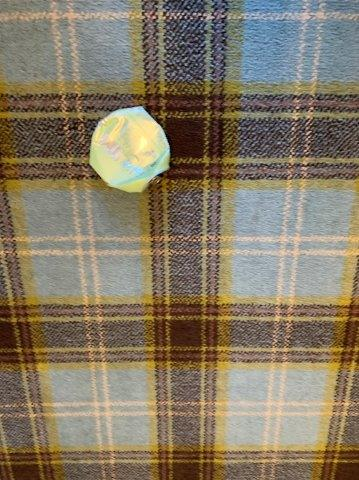kaleng: (88, 107, 170, 193)
